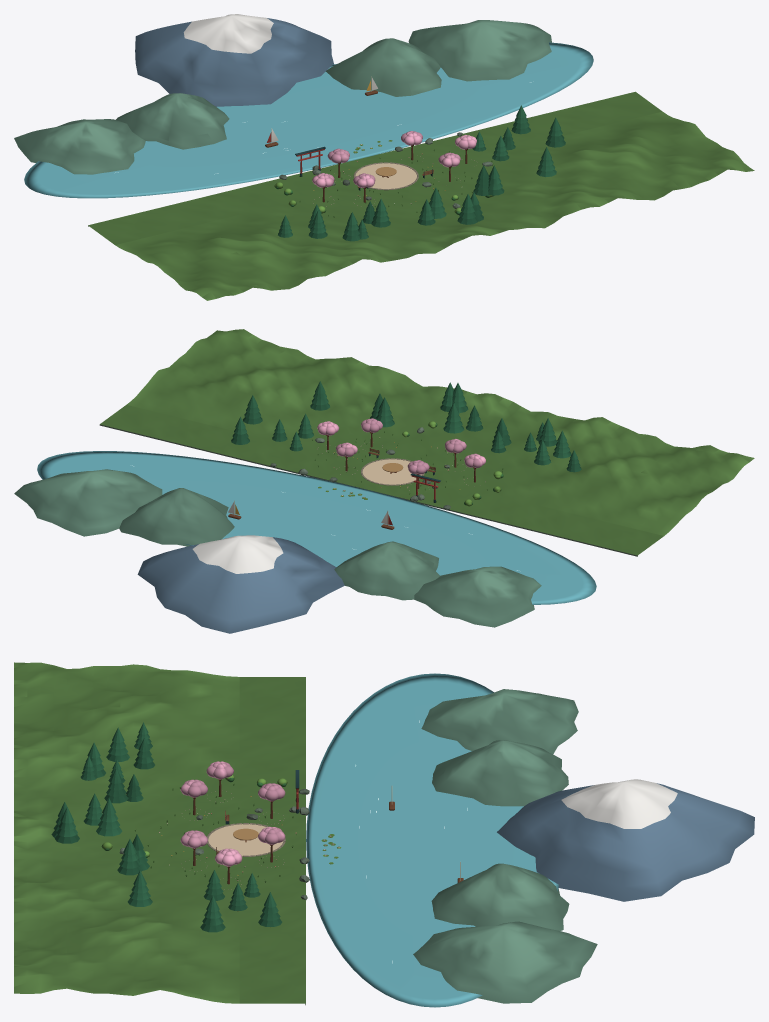
Rendered from fuji.glb.
3 renders of one model, top to bottom at view 1: azimuth 30°, elevation 25°; view 2: azimuth 150°, elevation 25°; view 3: azimuth 270°, elevation 25°, orthographic. The views are drawn at different scales.
Visible parts, largest first — view 1: fuji, fuji_agua; view 2: fuji, fuji_agua; view 3: fuji, fuji_agua.
Part boxes in pixels (x1=…): fuji: x1=14, y1=14, x2=754, y2=300; fuji_agua: x1=24, y1=42, x2=593, y2=198; fuji: x1=14, y1=329, x2=754, y2=633; fuji_agua: x1=37, y1=451, x2=596, y2=604; fuji: x1=14, y1=662, x2=754, y2=1005; fuji_agua: x1=306, y1=673, x2=558, y2=1007.
Size of the model in its own units: 92 by 7.81 by 86.25.
